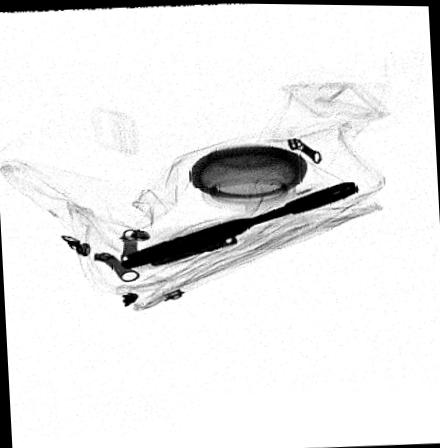Pliers: (120, 179, 358, 269)
